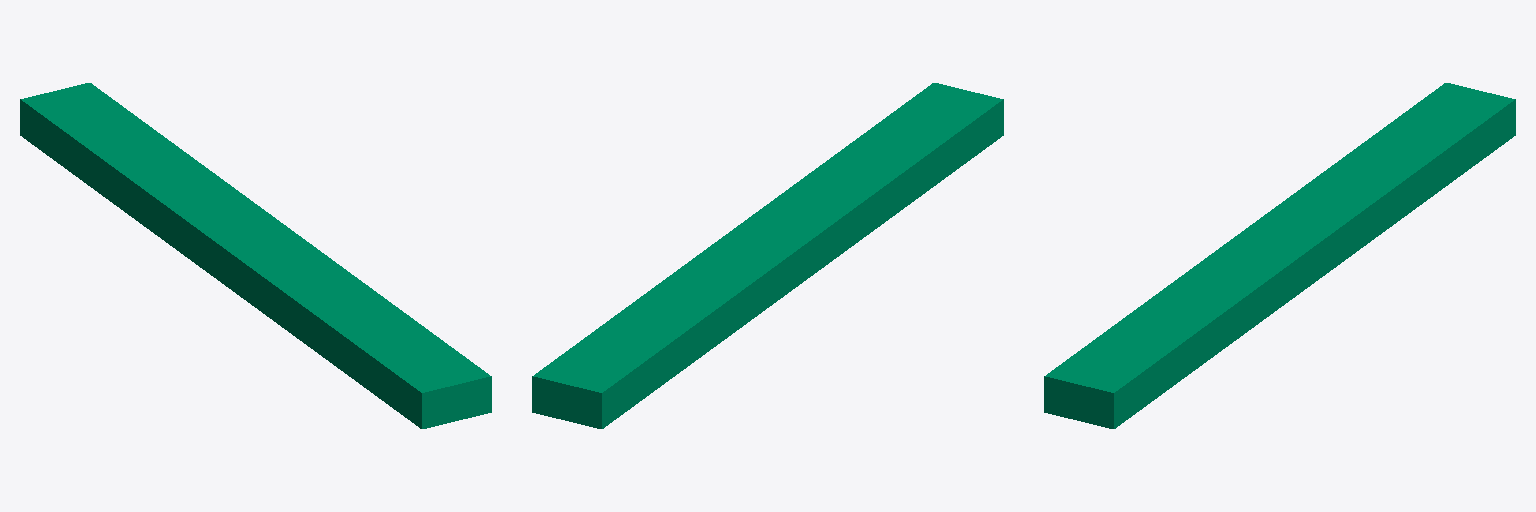
URDF robot description (IP):
<?xml version="1.0" encoding="utf-8"?>
<!-- This URDF was automatically created by SolidWorks to URDF Exporter! Originally created by Stephen Brawner (brawner@gmail.com) 
     Commit Version: 1.6.0-4-g7f85cfe  Build Version: 1.6.7995.38578
     For more information, please see http://wiki.ros.org/sw_urdf_exporter -->
<robot
  name="IP">
  <link
    name="base_link">
    <inertial>
      <origin
        xyz="0.276051261736925 0.432193708383381 0.27038620021704"
        rpy="0 0 0" />
      <mass
        value="1" />
      <inertia
        ixx="0.00145187499581721"
        ixy="0"
        ixz="0"
        iyy="0.0471628558235385"
        iyz="0"
        izz="0.0471628558235385" />
    </inertial>
    <visual>
      <color rgb="1.0 1.0 1.0" opacity="1.0"/>
      <origin
        xyz="0 0 0"
        rpy="0 0 0" />
      <geometry>
        <mesh
          filename="package://IP/meshes/base_link.STL" />
      </geometry>
    </visual>
    <collision>
      <origin
        xyz="0 0 0"
        rpy="0 0 0" />
      <geometry>
        <mesh
          filename="package://IP/meshes/base_link.STL" />
      </geometry>
    </collision>
  </link>
  <link
    name="car">
    <inertial>
      <origin
        xyz="0 0 0"
        rpy="0 0 0" />
      <mass
        value="1" />
      <inertia
        ixx="1.667E-3"
        ixy="0"
        ixz="0"
        iyy="1.667E-3"
        iyz="0"
        izz="1.667E-3" />
    </inertial>
    <visual>
    <color rgb="1.0 1.0 0.0" opacity="1.0"/>
      <origin
        xyz="0 0 0"
        rpy="0 0 0" />
      <geometry>
        <mesh
          filename="package://IP/meshes/link1.STL" />
      </geometry>
    </visual>
  </link>
   <link name="rod">
    <inertial>
      <origin
        xyz="0 0.25 0"
        rpy="0 0 0" />
      <mass
        value="1" />
      <inertia
        ixx="0.0208333"
        ixy="0"
        ixz="0"
        iyy="0.000"
        iyz="0"
        izz="0.0208333" />
    </inertial>
    <visual>
    <color rgb="0.0 1.0 1.0" opacity="1.0"/>
      <origin
        xyz="0 0 0"
        rpy="0 0 0" />
      <geometry>
      <scale value="1"/>
        <mesh
          filename="package://IP/meshes/rod.STL" />
      </geometry>
    </visual>
  </link>
  <joint
    name="joint1"
    type="prismatic">
    <origin
      xyz="0 0 0"
      rpy="0 0 0" />
    <parent
      link="base_link" />
    <child
      link="car" />
    <axis
      xyz="1 0 0" />
    <limit
      lower="-1.0"
      upper="1.0"
      effort="0"
      velocity="0" />
  </joint>
    <joint
    name="joint2"
    type="revolute">
    <origin
      xyz="0 0 0.0625"
      rpy="0 0 0" />
    <parent
      link="car" />
    <child
      link="rod" />
    <axis
      xyz="0 0 1" />
    <limit
      lower="-10.0"
      upper="10.0"
      effort="0"
      velocity="0" />
  </joint>
  
</robot>

--- Render facts (derived) ---
3 views of the same robot in one strip: view 1: azimuth 30°, elevation 25°; view 2: azimuth 150°, elevation 25°; view 3: azimuth 330°, elevation 25° (orthographic).
Robot: IP — 3 links, 2 joints (1 revolute, 1 prismatic); root link base_link; default pose: every joint at zero.
Links seen in each view (by area): view 1: rod; view 2: rod; view 3: rod.
Boxes of the visible links, box(x1,y1,x2,y2) form: rod: box(20, 83, 491, 428); rod: box(532, 83, 1003, 428); rod: box(1044, 83, 1515, 428).
Bounding box of the posed robot: 50 × 500 × 25 m (x, y, z).
Meshes: 3 distinct files referenced, 3 mesh visuals loaded (2 binary STL, 1 ASCII STL).
